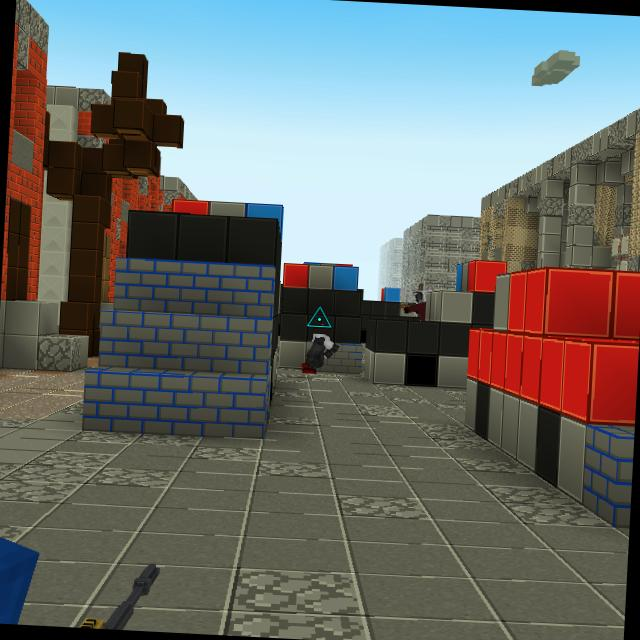enemy: (404, 282, 434, 321)
